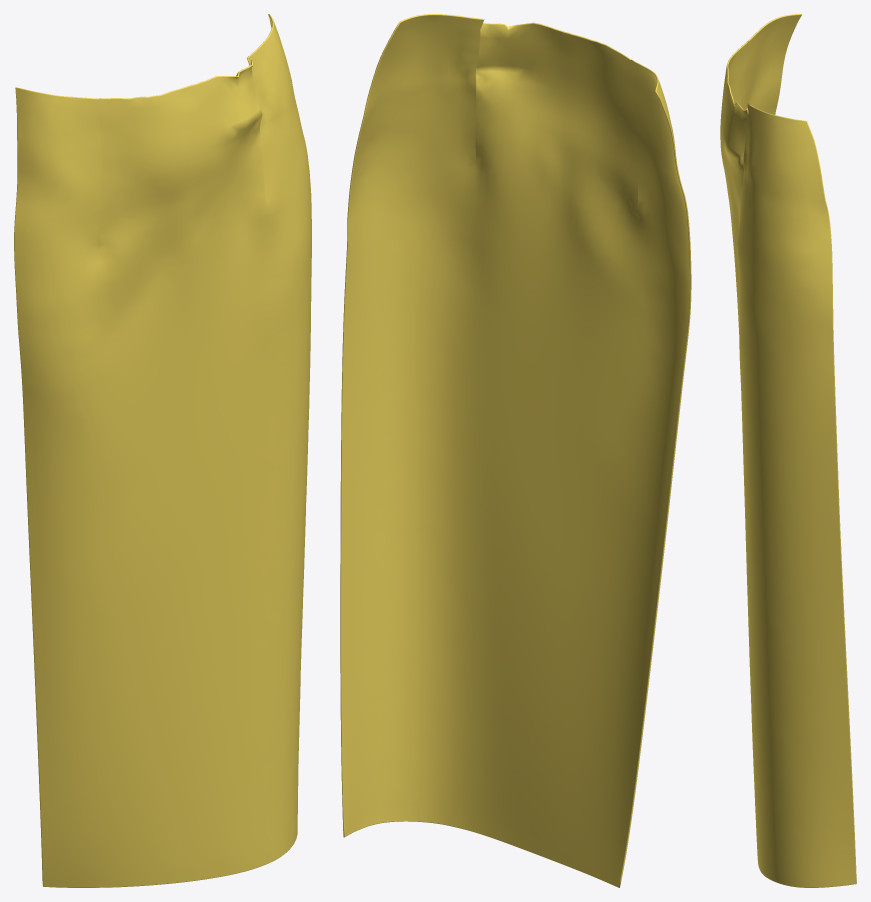
3 renders of one model, left to right at view 1: azimuth 30°, elevation 25°; view 2: azimuth 150°, elevation 25°; view 3: azimuth 270°, elevation 25°, orthographic. The views are drawn at different scales.
Parts seen in each view (by area): view 1: Object_5; view 2: Object_5; view 3: Object_5.
Part boxes in pixels (x1,y1,x2,y2): Object_5: [14, 14, 311, 887]; Object_5: [340, 14, 691, 887]; Object_5: [720, 14, 856, 887].
Bounding box in the file's own units: 0.3218 × 0.8054 × 0.1303.
